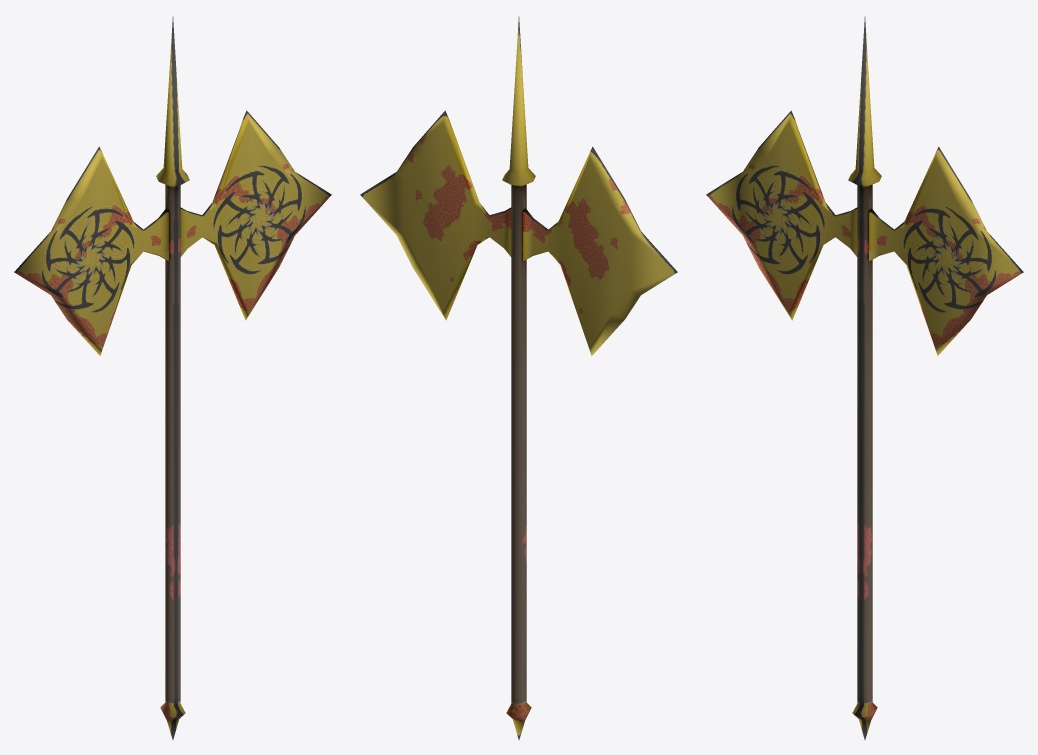
File: TikbalangWeapon.fbx
The picture shows the model from 3 angles, left to right: view 1: azimuth 30°, elevation 25°; view 2: azimuth 150°, elevation 25°; view 3: azimuth 330°, elevation 25°; orthographic projection.
Parts seen in each view (by area): view 1: polySurface1; view 2: polySurface1; view 3: polySurface1.
Part boxes in pixels (x1,y1,x2,y2): polySurface1: (14, 17, 331, 739); polySurface1: (360, 17, 677, 739); polySurface1: (706, 17, 1023, 739).
Bounding box in the file's own units: 3.85 × 8.41 × 0.365.
